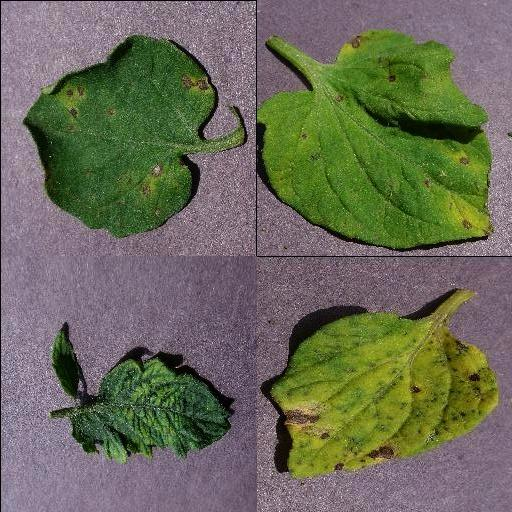Mosaic Virus: (68, 357, 230, 465), (50, 325, 80, 393)
Septoria: (256, 32, 492, 250), (21, 33, 215, 236), (269, 313, 493, 477)
